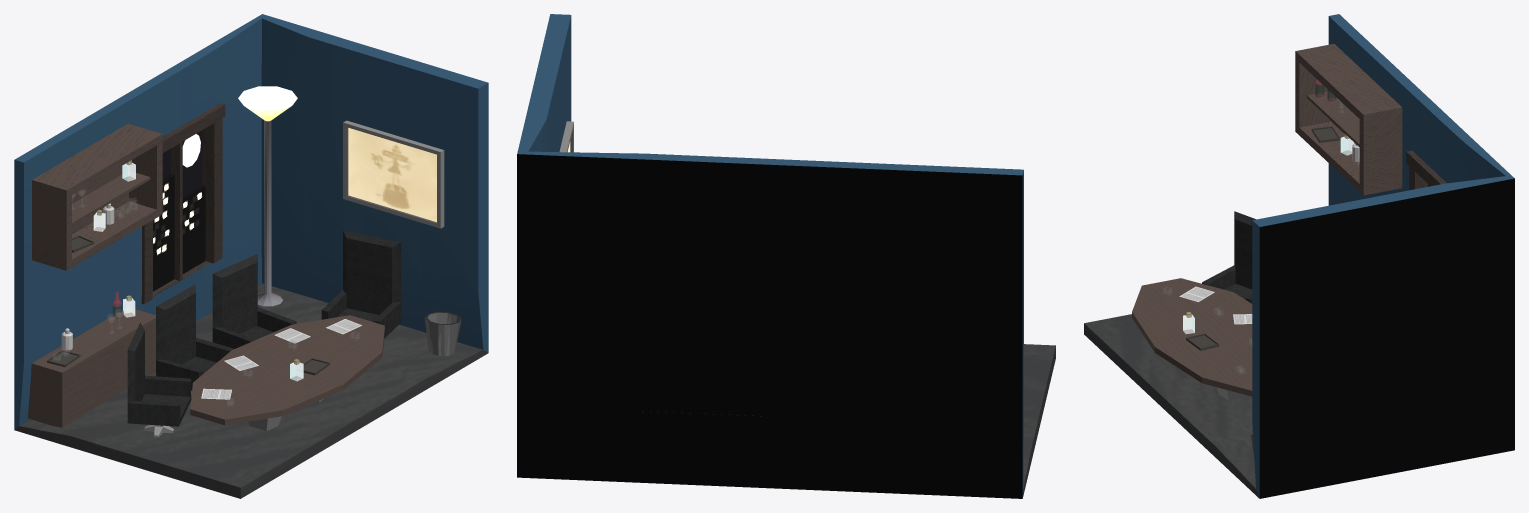
3 views of the same model, side by side, from view 1: azimuth 30°, elevation 25°; view 2: azimuth 150°, elevation 25°; view 3: azimuth 270°, elevation 25° (orthographic). The views are drawn at different scales.
Visible parts, largest first — view 1: polySurface20, polySurface10, polySurface1, polySurface19, polySurface12, pCube39, pCube42, pCube41, pCube40, pCube35, pCylinder2, pCylinder1; view 2: polySurface20; view 3: polySurface20, polySurface10, polySurface1, pCube35, polySurface19.
Part boxes in pixels (box(x1,y1,x2,y2)): polySurface20: box(14, 14, 488, 498); polySurface10: box(32, 123, 162, 270); polySurface1: box(190, 315, 384, 425); polySurface19: box(141, 103, 225, 304); polySurface12: box(27, 309, 155, 427); pCube39: box(343, 120, 444, 228); pCube42: box(321, 230, 401, 338); pCube41: box(212, 254, 296, 348); pCube40: box(156, 285, 234, 390); pCube35: box(127, 322, 191, 426); pCylinder2: box(238, 86, 297, 306); pCylinder1: box(424, 311, 461, 356); polySurface20: box(517, 14, 1055, 498); polySurface20: box(1084, 14, 1514, 498); polySurface10: box(1295, 44, 1402, 195); polySurface1: box(1132, 278, 1252, 396); pCube35: box(1202, 211, 1256, 303); polySurface19: box(1406, 150, 1446, 190).
Size of the model in its own units: 2.67 by 1.59 by 2.28.
Materials: 20 (20 with a texture image).
